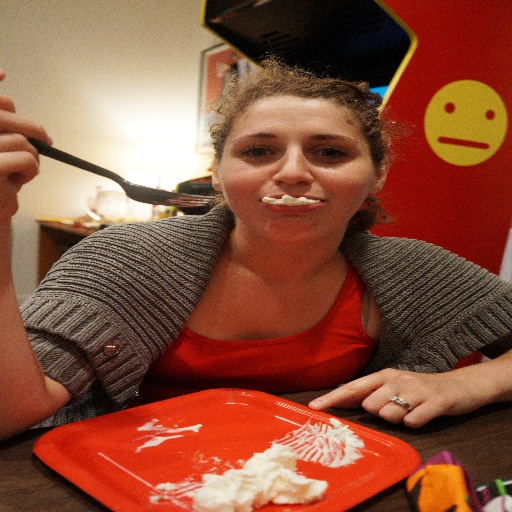hand: (330, 362, 498, 433), (0, 67, 56, 223)
